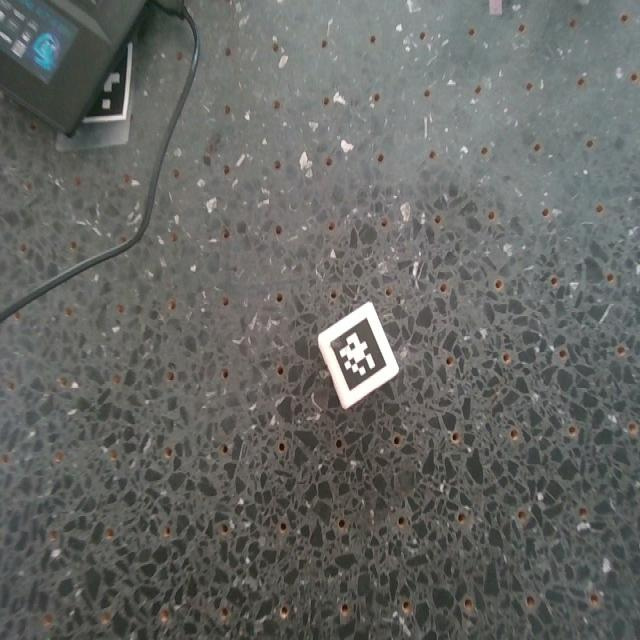Cube: (317, 303, 401, 412)
